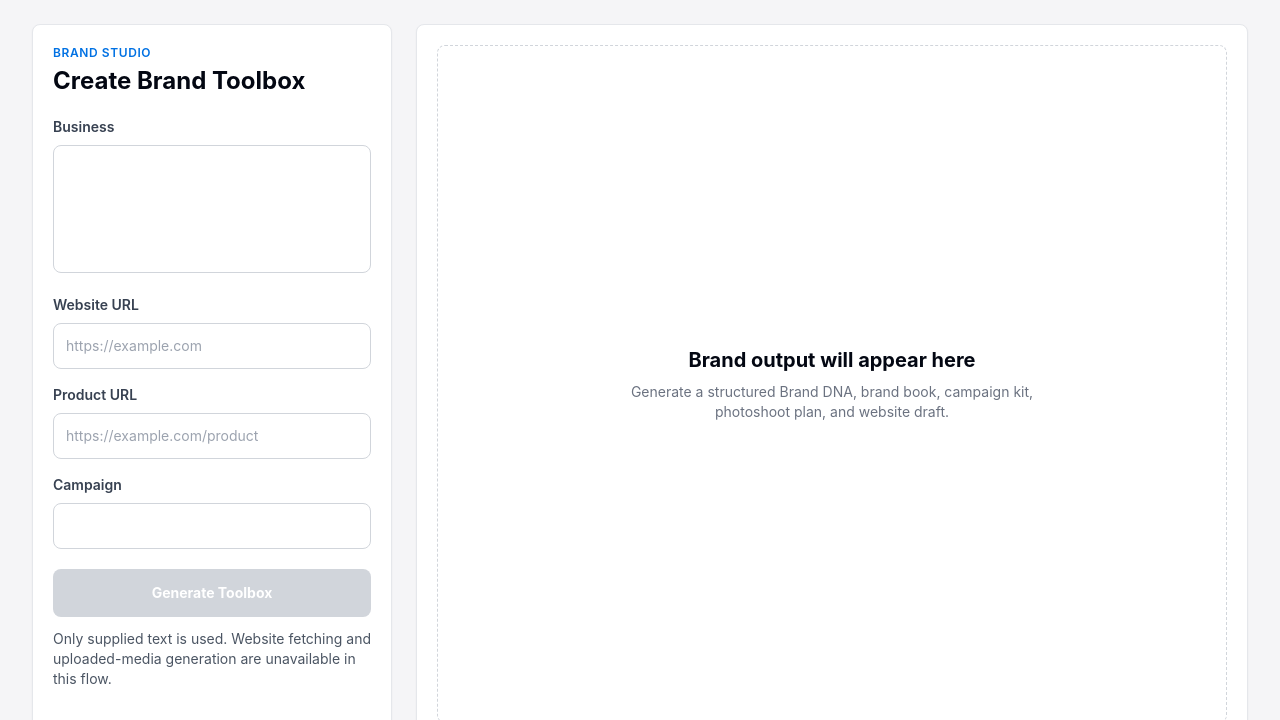
Test case: retires a late result after an owner change
In the text box labelled "Business": point(212, 209) left=53, top=145, right=371, bottom=273, type "Owner A private description"
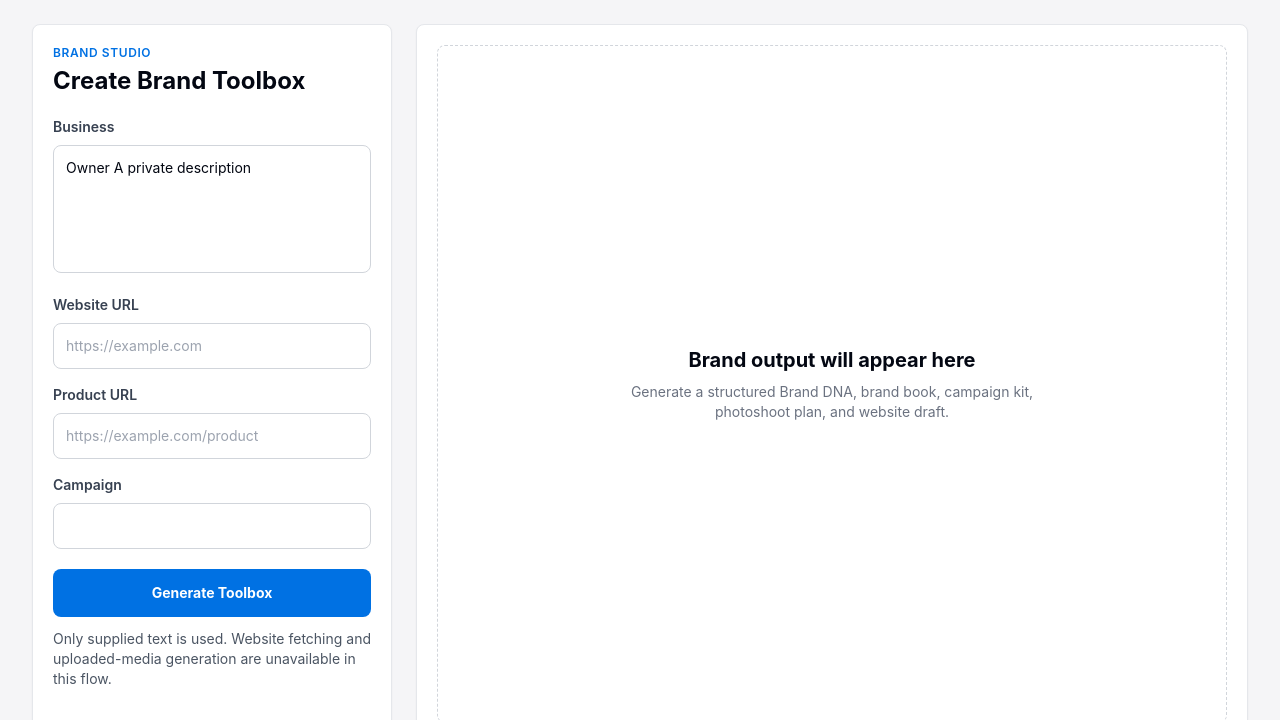
Result: the button "Generate Toolbox" is enabled
Click the button "Generate Toolbox": point(212, 593) left=53, top=569, right=371, bottom=617
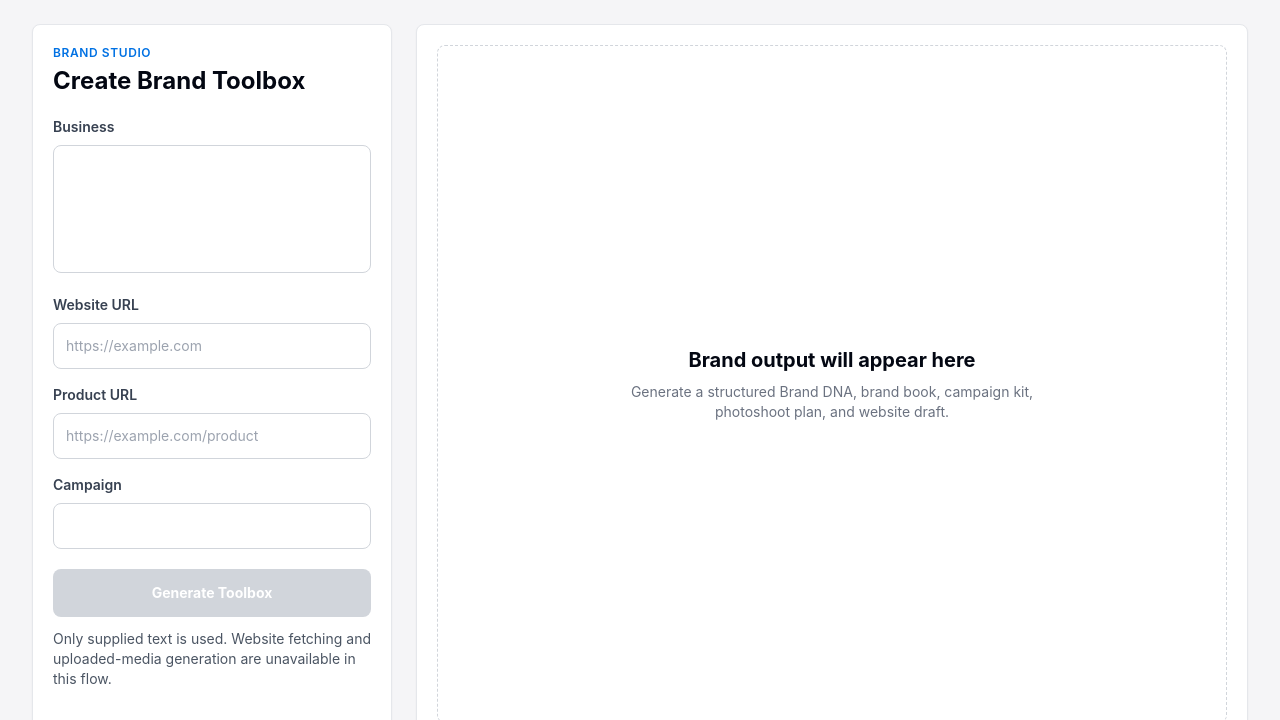
Result: the text box labelled "Business" is empty at left=53, top=145, right=371, bottom=273
